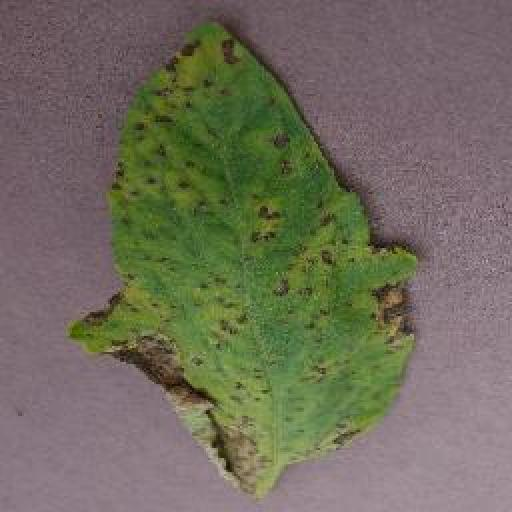disease_tomato: (72, 14, 422, 498)
